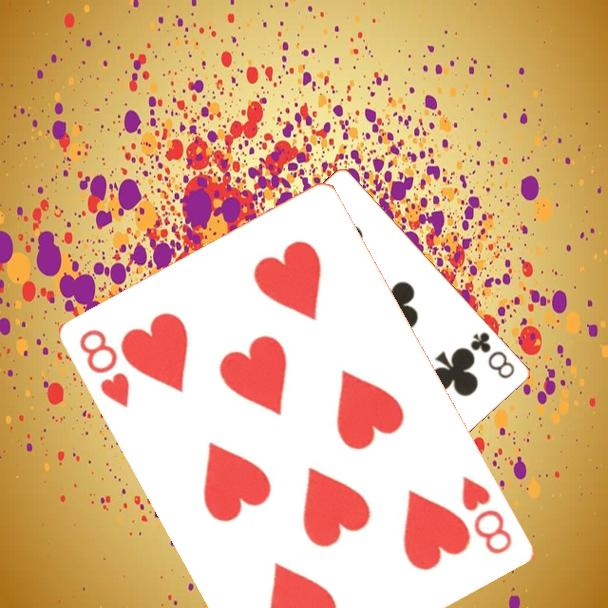c08: (467, 328, 518, 382)
h08: (458, 472, 516, 558), (76, 325, 134, 411)
